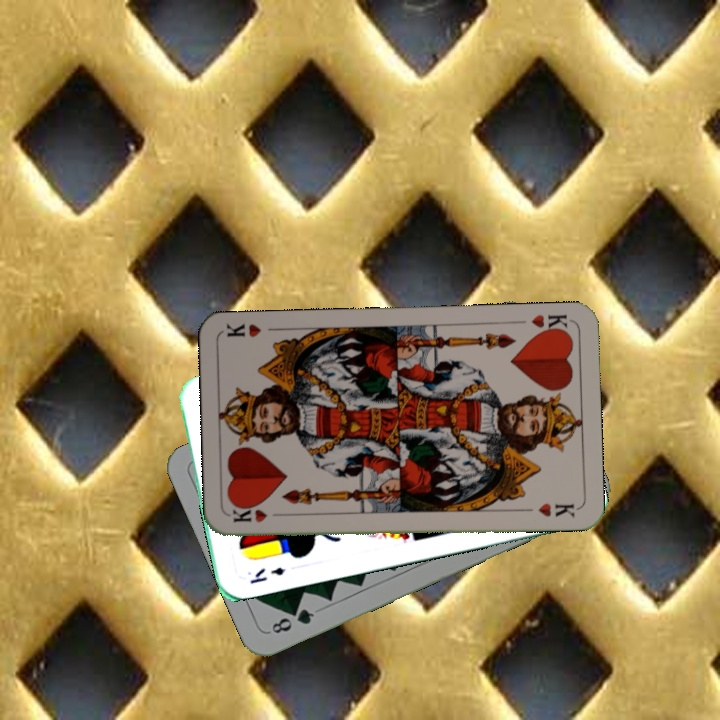EK: (245, 562, 287, 587)
G8: (265, 604, 317, 636)
HK: (228, 504, 288, 525), (527, 310, 572, 337)
